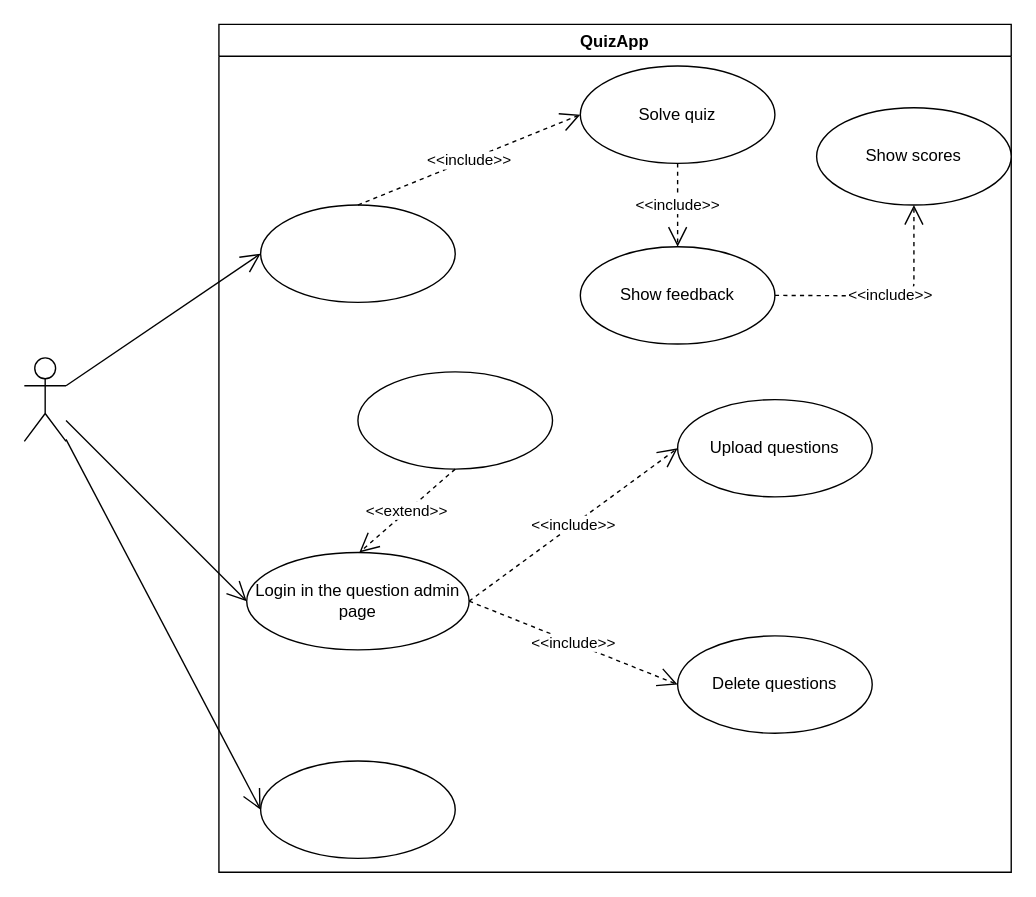
This 1036x897 diagram has some shape labels left out. Here are the shapes that lost their labels. From the top down, the centre of each, then its label:
At pixel 357 253: "Set up a quiz".
At pixel 44 399: "Client".
At pixel 455 419: "Verify login".
At pixel 357 809: "Go to github repository".
